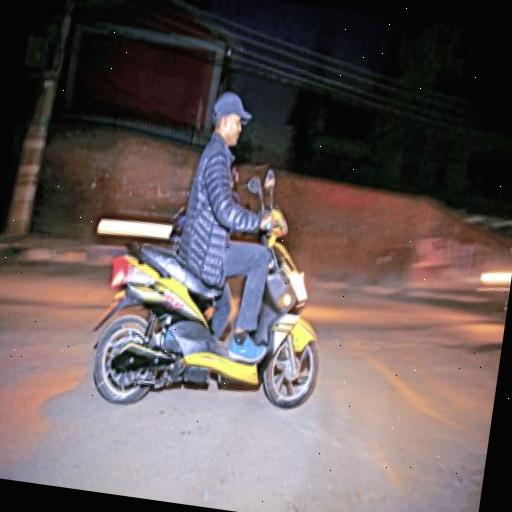no helmet: (135, 72, 366, 419)
